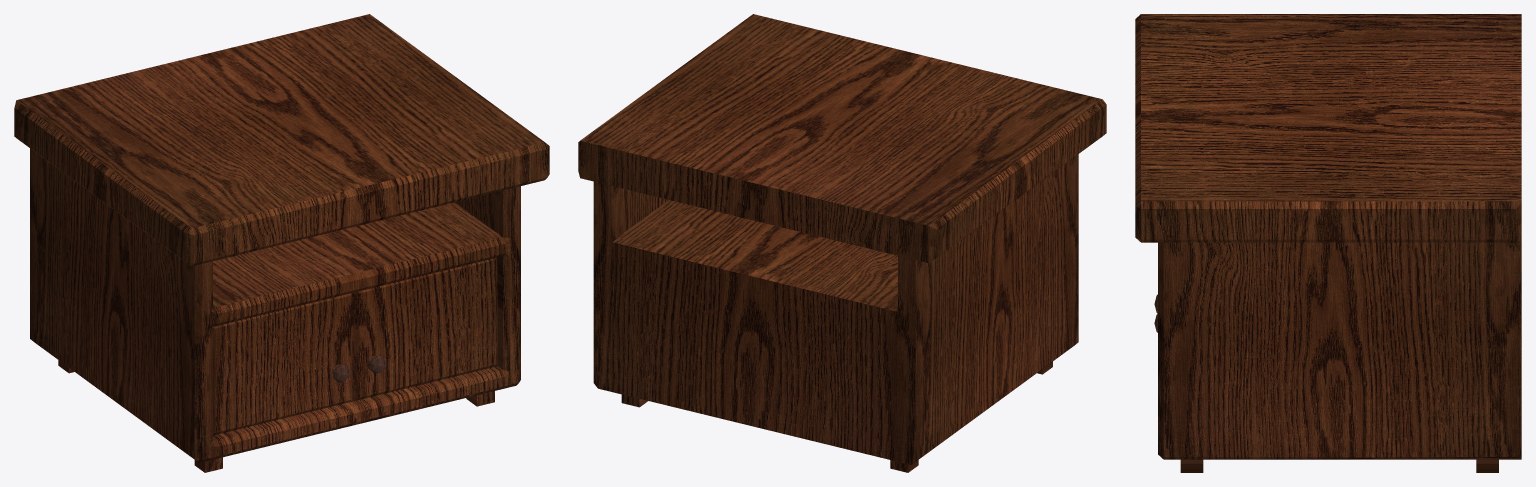
The model's file is TV_Stand.glb.
3 renders of one model, left to right at view 1: azimuth 30°, elevation 25°; view 2: azimuth 150°, elevation 25°; view 3: azimuth 270°, elevation 25°, orthographic. The views are drawn at different scales.
Parts seen in each view (by area): view 1: object2.003, object3.002, object1.003; view 2: object2.003; view 3: object2.003.
Part boxes in pixels (left/top/right/bottom): object2.003: left=14, top=14, right=549, bottom=472; object3.002: left=352, top=257, right=497, bottom=401; object1.003: left=213, top=293, right=352, bottom=435; object2.003: left=578, top=14, right=1106, bottom=472; object2.003: left=1135, top=14, right=1521, bottom=472.
Bounding box in the file's own units: 1 × 0.7 × 0.85.
Materials: 2 (2 with a texture image).
